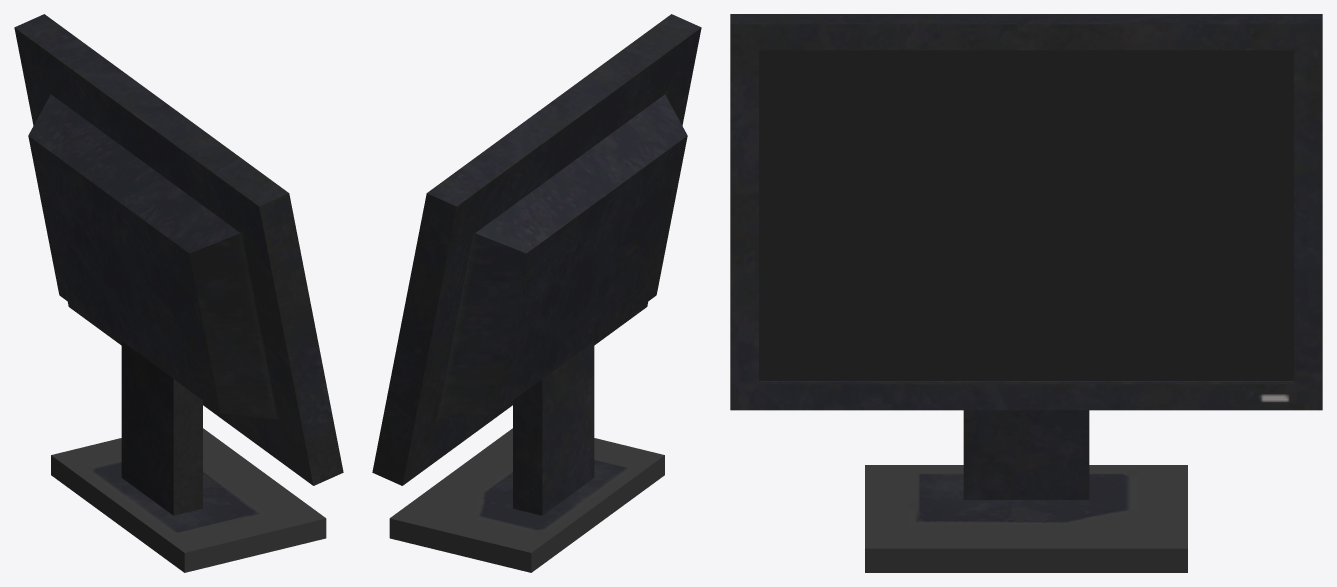
Rendered from SM_computer_monitor_a.fbx.
3 views of the same model, side by side, from view 1: azimuth 30°, elevation 25°; view 2: azimuth 150°, elevation 25°; view 3: azimuth 270°, elevation 25° (orthographic). The views are drawn at different scales.
Parts seen in each view (by area): view 1: polySurface387; view 2: polySurface387; view 3: polySurface387.
Part boxes in pixels (<box>): polySurface387: <box>14,14,343,572</box>; polySurface387: <box>372,14,701,572</box>; polySurface387: <box>730,14,1322,572</box>.
Bounding box in the file's own units: 0.261 × 0.6758 × 0.7344.
